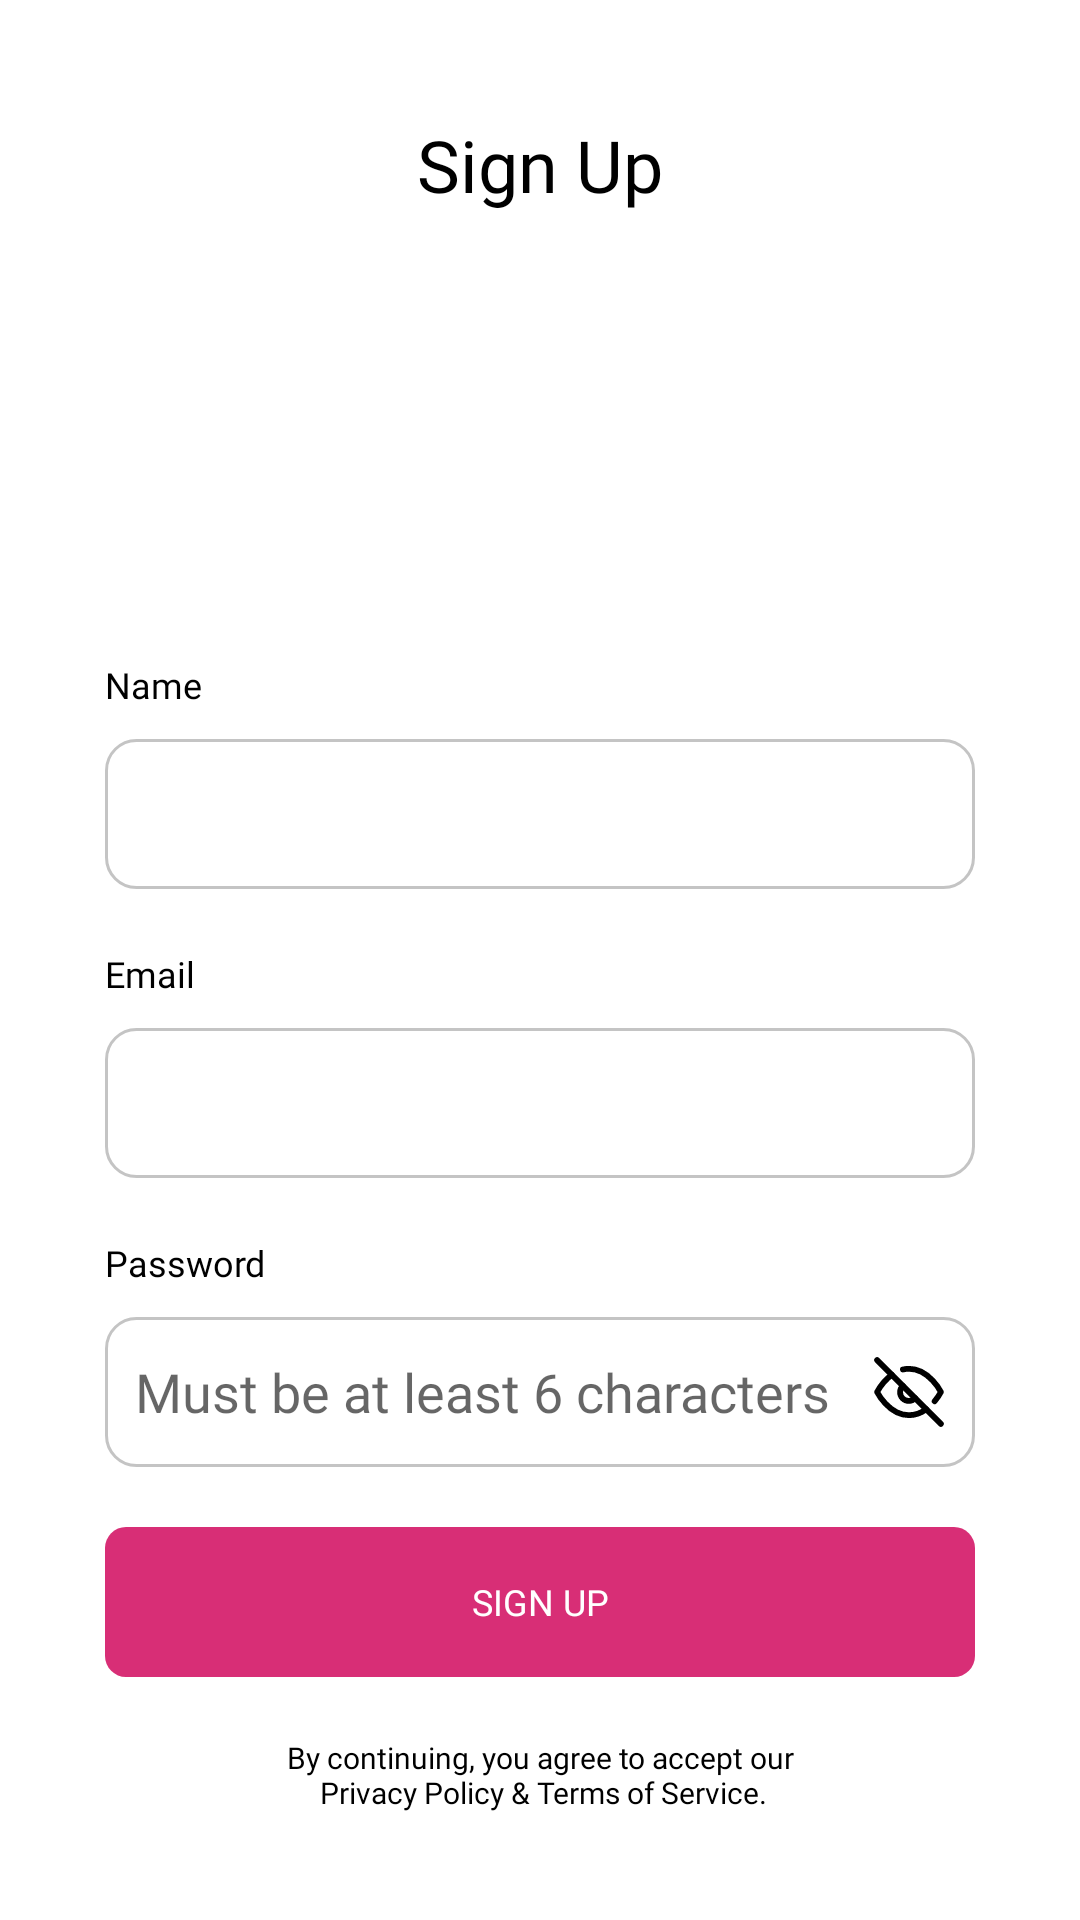

Where to tap for icons on this 1080 × 1920 app screen, as (x,y):
feather eye off: (909,1392)
